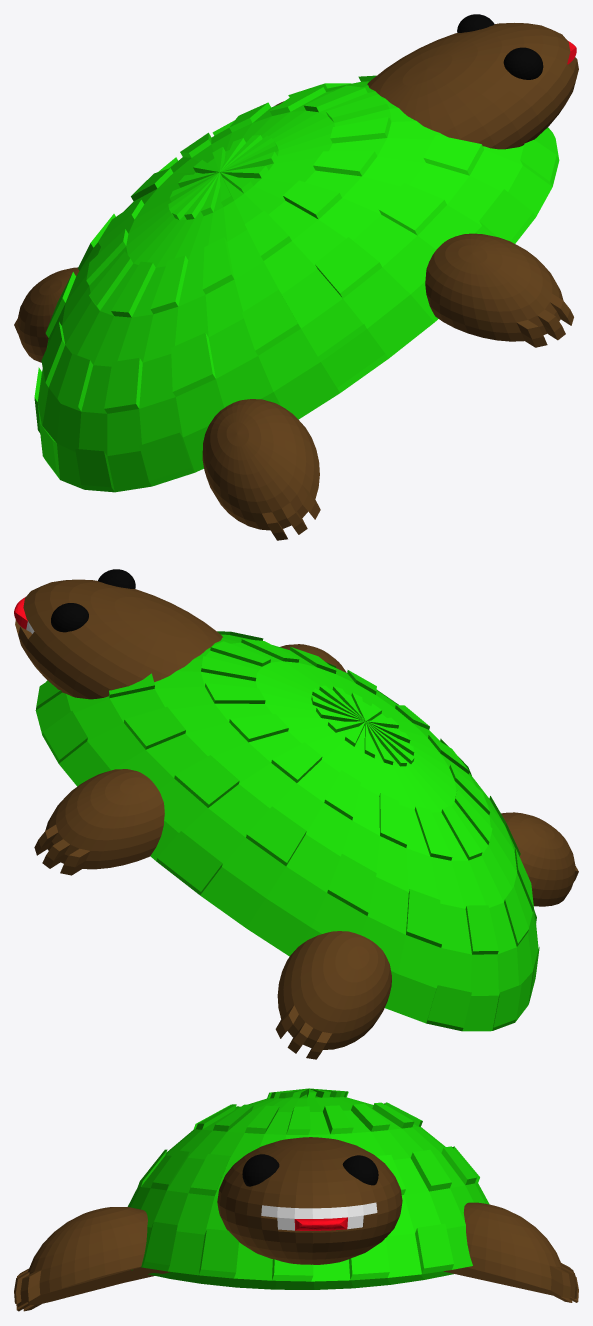
File: slow_tartaruga.glb
3 renders of one model, top to bottom at view 1: azimuth 30°, elevation 25°; view 2: azimuth 150°, elevation 25°; view 3: azimuth 270°, elevation 25°, orthographic. The views are drawn at different scales.
Parts seen in each view (by area): view 1: slow; view 2: slow; view 3: slow.
Boxes of the visible parts, x1,y1,x2,y2 form: slow: (14, 14, 578, 540); slow: (14, 569, 578, 1059); slow: (14, 1088, 578, 1311).
Size of the model in its own units: 3.76 by 2.37 by 3.43.
